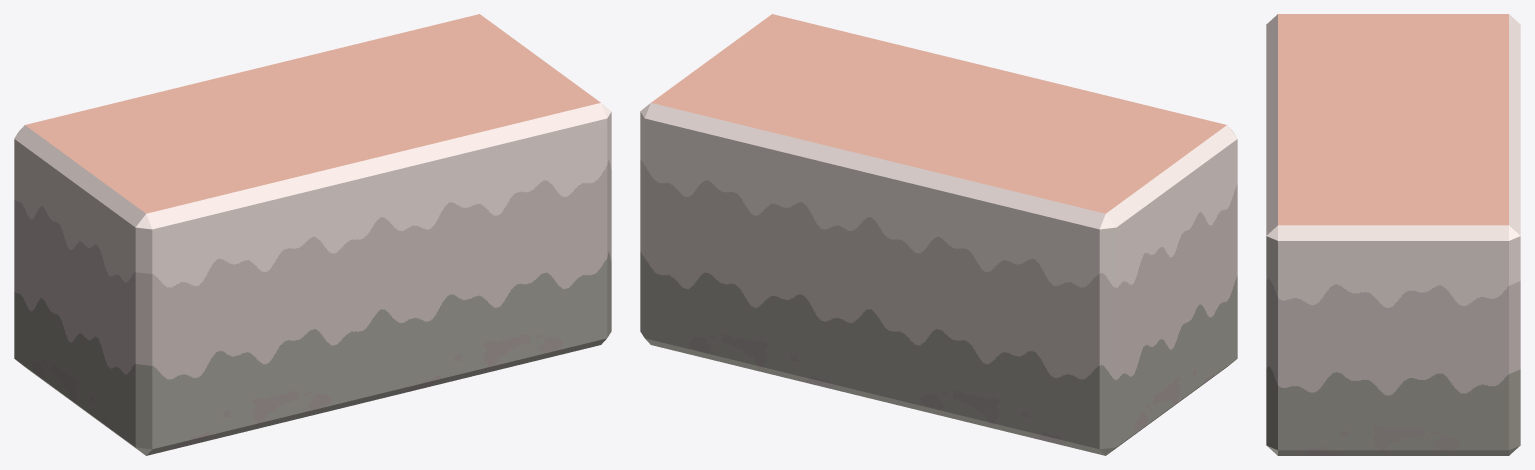
Rendered from R4B_Beam2_LOD1.glb.
The picture shows the model from 3 angles, left to right: view 1: azimuth 30°, elevation 25°; view 2: azimuth 150°, elevation 25°; view 3: azimuth 270°, elevation 25°; orthographic projection. The views are drawn at different scales.
Visible parts, largest first — view 1: R4B_Beam2_LOD1; view 2: R4B_Beam2_LOD1; view 3: R4B_Beam2_LOD1.
Boxes of the visible parts, box(x1,y1,x2,y2) form: R4B_Beam2_LOD1: box(14, 14, 611, 455); R4B_Beam2_LOD1: box(640, 14, 1237, 455); R4B_Beam2_LOD1: box(1266, 14, 1520, 455).
Bounding box in the file's own units: 1.07 × 0.52 × 0.52.
2 materials, 2 textured.
